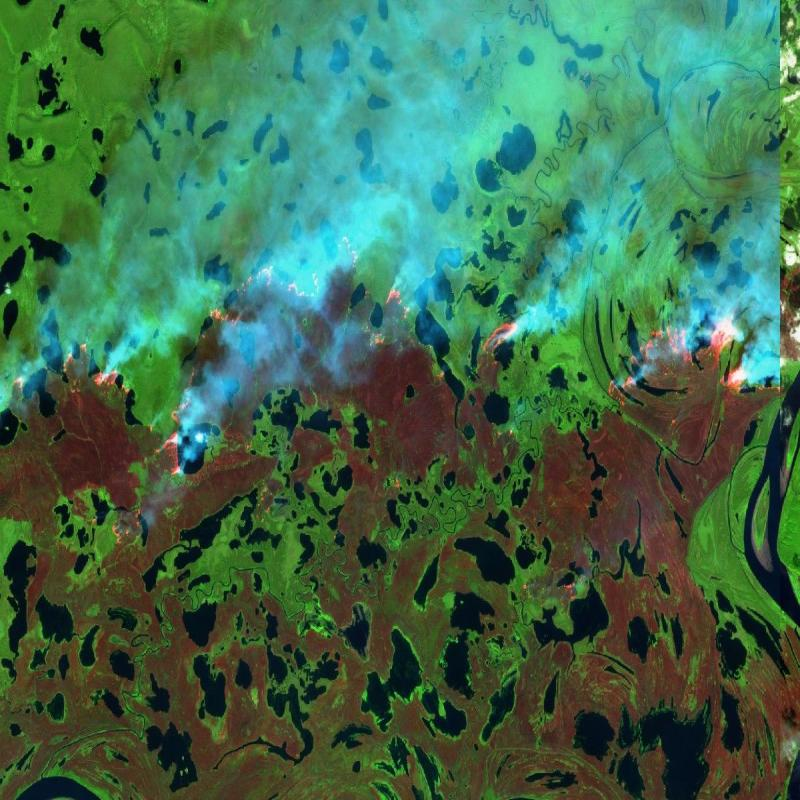fire: (0, 246, 800, 500)
